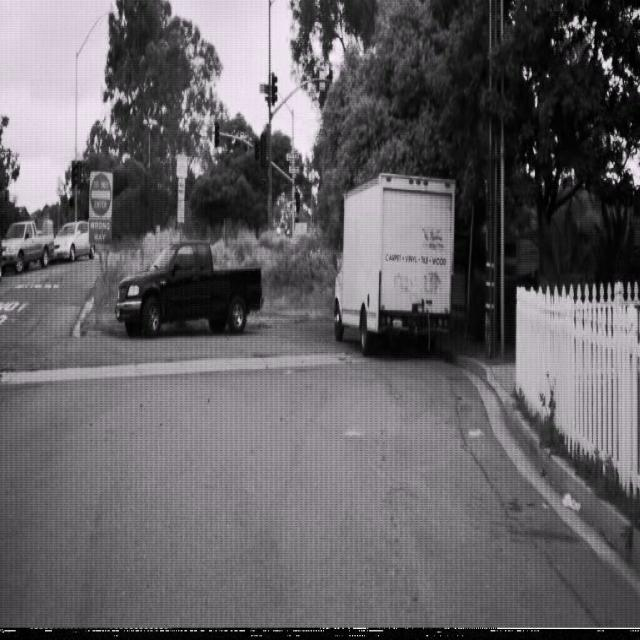doNotEnter: (90, 172, 112, 217)
